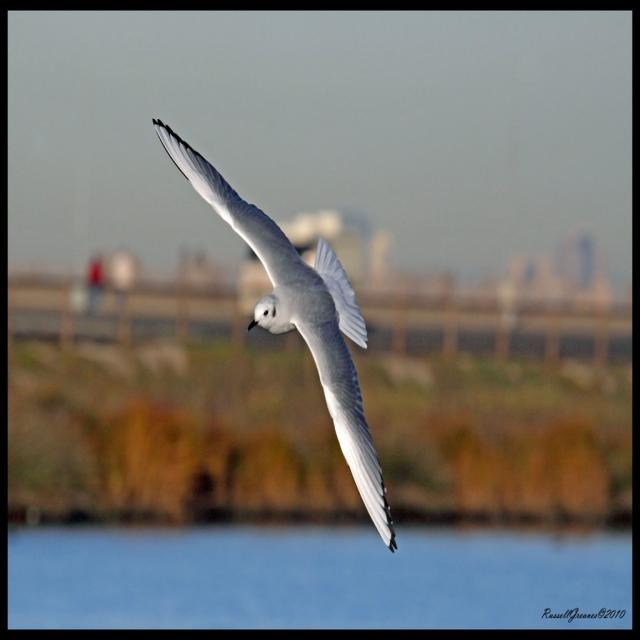bird: (146, 113, 396, 552)
